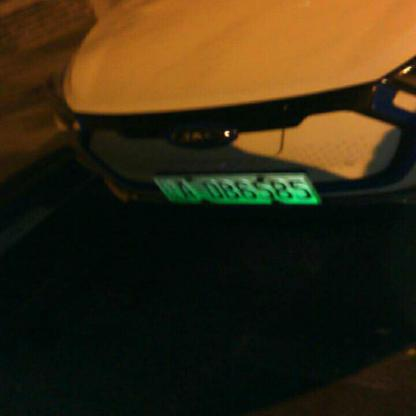lp: (154, 173, 320, 204)
